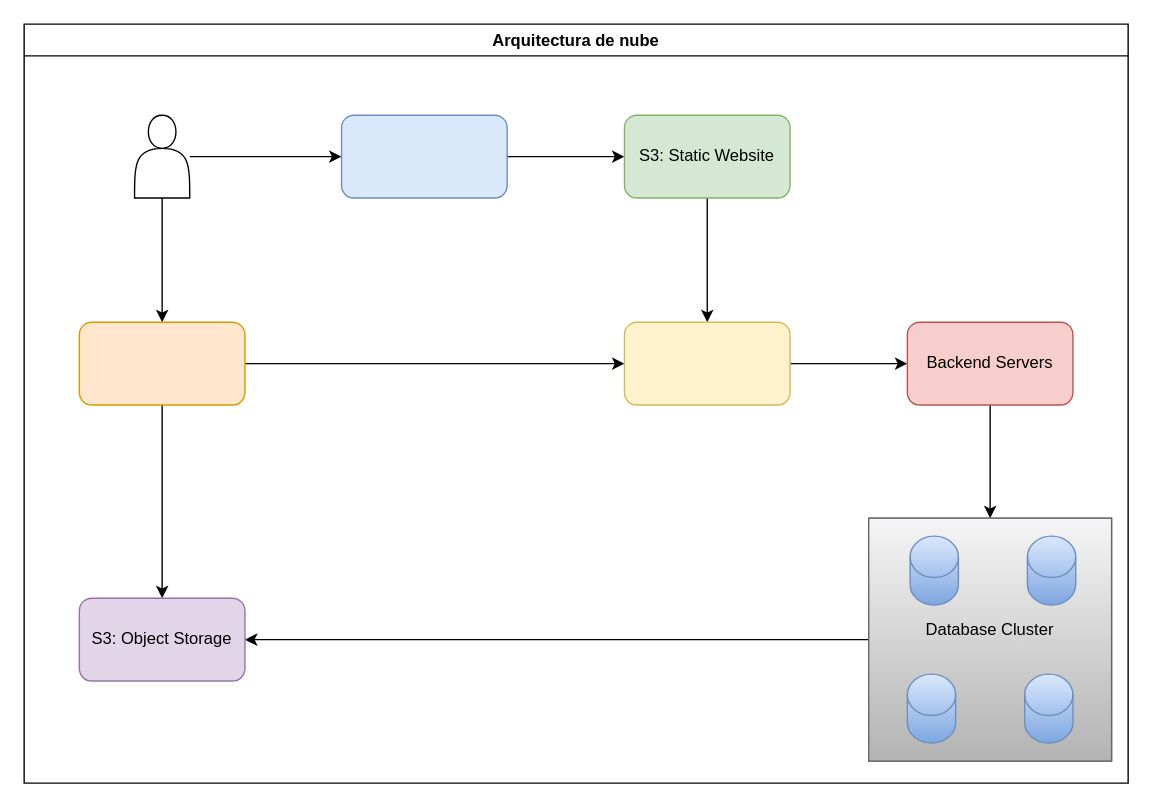
Image size: 1152x807. Some labels were removed from this diagram. Here are the shapes that lost their labels. From the top down, the centre of each, then its label:
At point 423,156: "CDN".
At point 161,363: "API Gateway".
At point 706,363: "Load Balancer".
